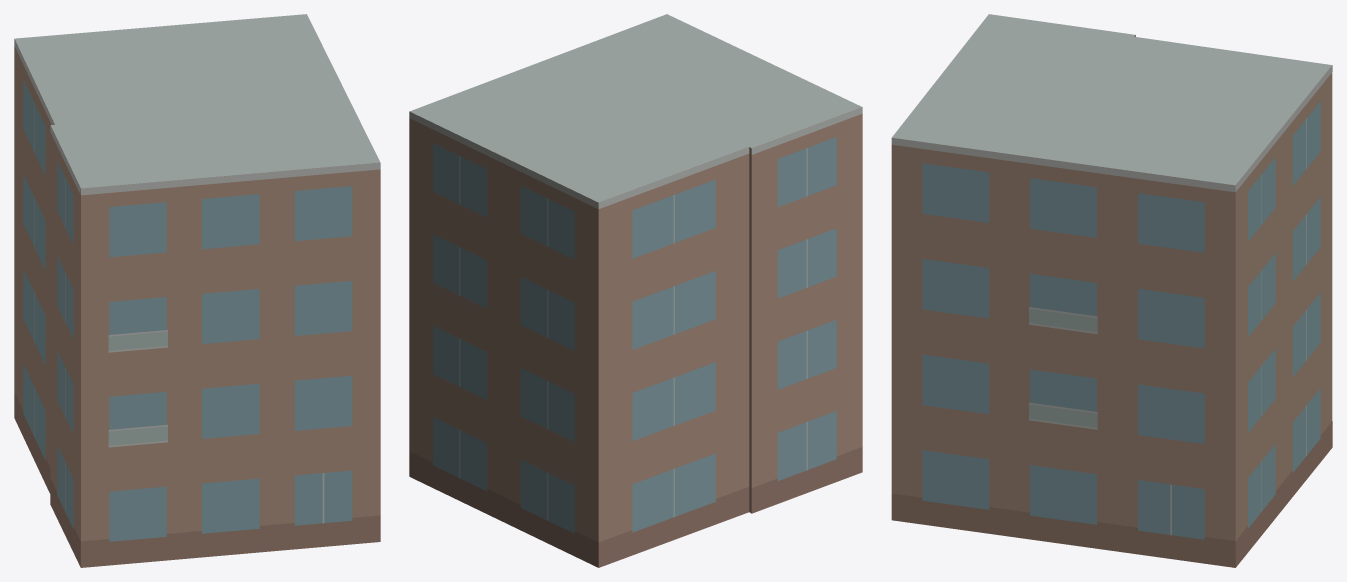
File: survey-upis-32528029.glb
The picture shows the model from 3 angles, left to right: view 1: azimuth 30°, elevation 25°; view 2: azimuth 150°, elevation 25°; view 3: azimuth 270°, elevation 25°; orthographic projection. The views are drawn at different scales.
Visible parts, largest first — view 1: survey-upis-32528029.tmp; view 2: survey-upis-32528029.tmp; view 3: survey-upis-32528029.tmp.
Boxes of the visible parts, box(x1,y1,x2,y2) form: survey-upis-32528029.tmp: box(14, 14, 380, 567); survey-upis-32528029.tmp: box(409, 14, 862, 567); survey-upis-32528029.tmp: box(891, 14, 1332, 567).
Bounding box in the file's own units: 12.93 × 13.45 × 14.06.
